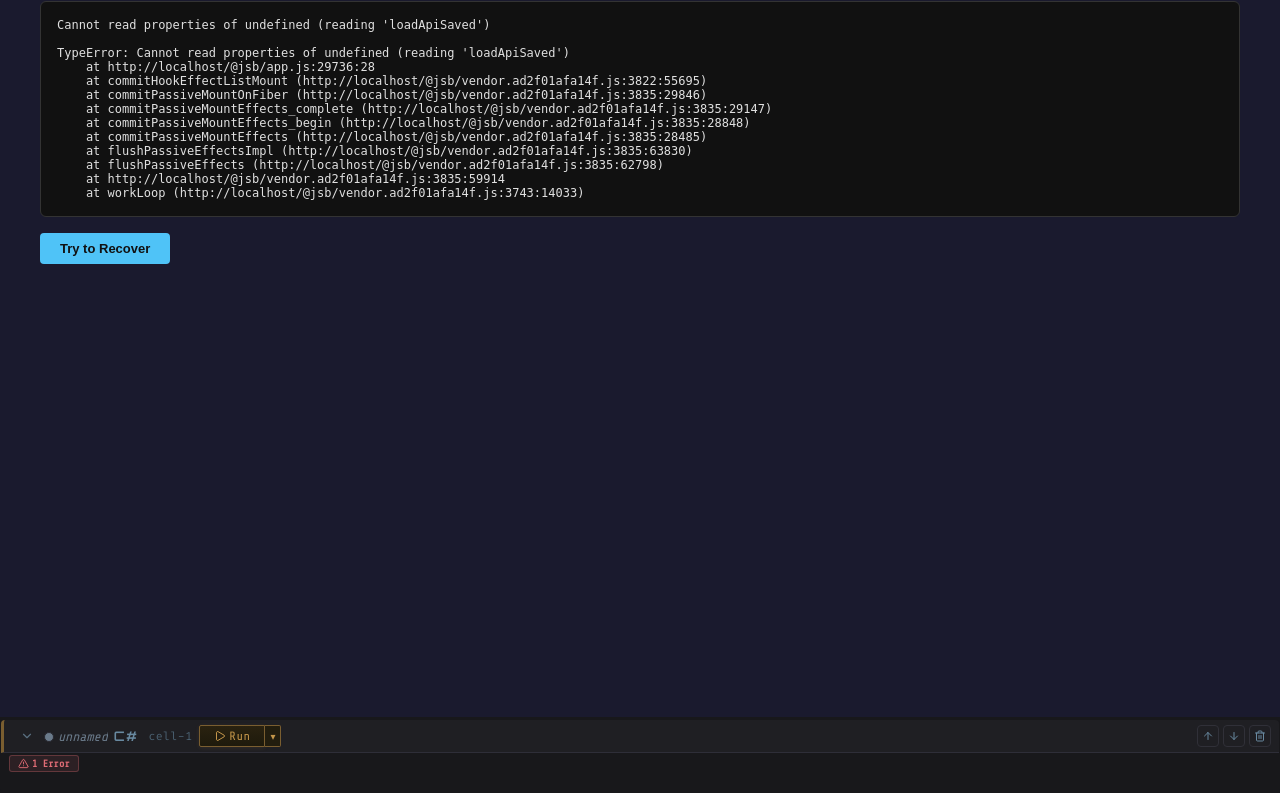
Test case: CodeCell – error tab persistence after re-run › shows the error pane when outputs contain errors and the user toggles it on
(page scrolled)
Click the button titled "Show 1 error" at (44, 764), box [9,755,79,772]
(page scrolled)
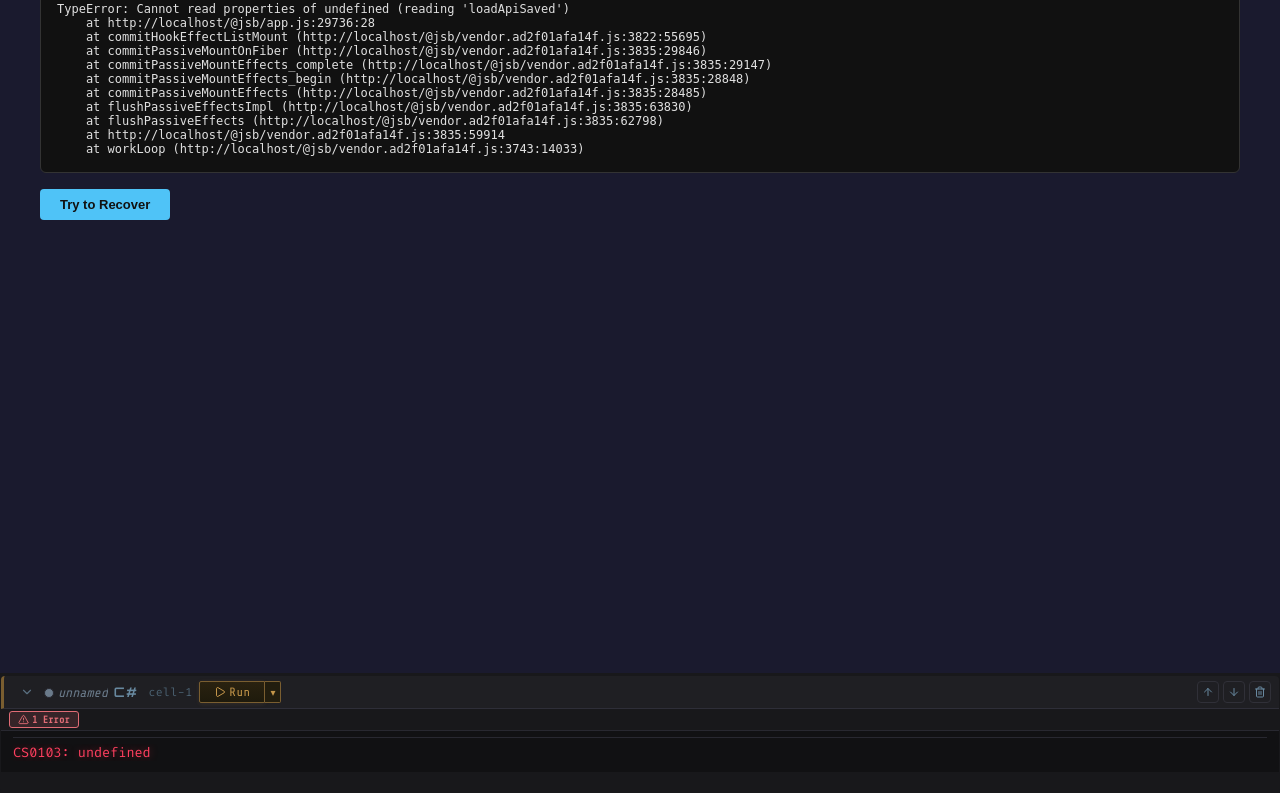
Now the text "CS0103: undefined" is shown, box [13,744,151,761]
